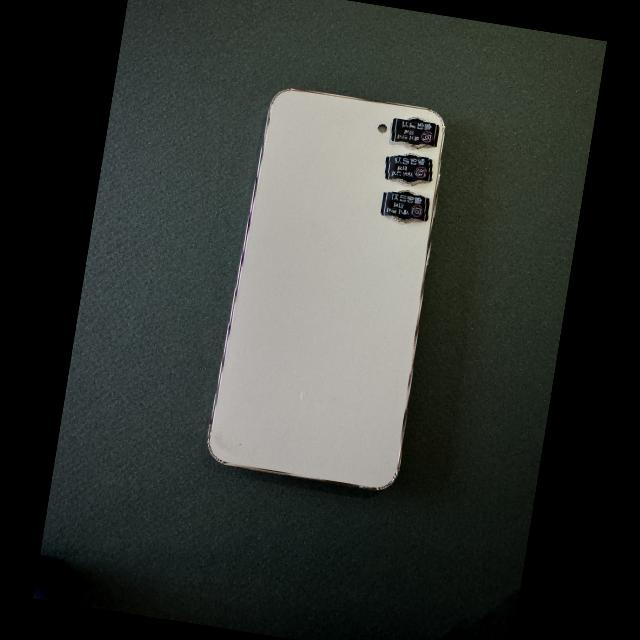lens: (391, 215, 413, 222), (400, 142, 424, 148), (395, 179, 421, 184)
phone: (208, 89, 445, 490)
sticker: (391, 119, 439, 148), (381, 192, 429, 221), (385, 156, 432, 183)
